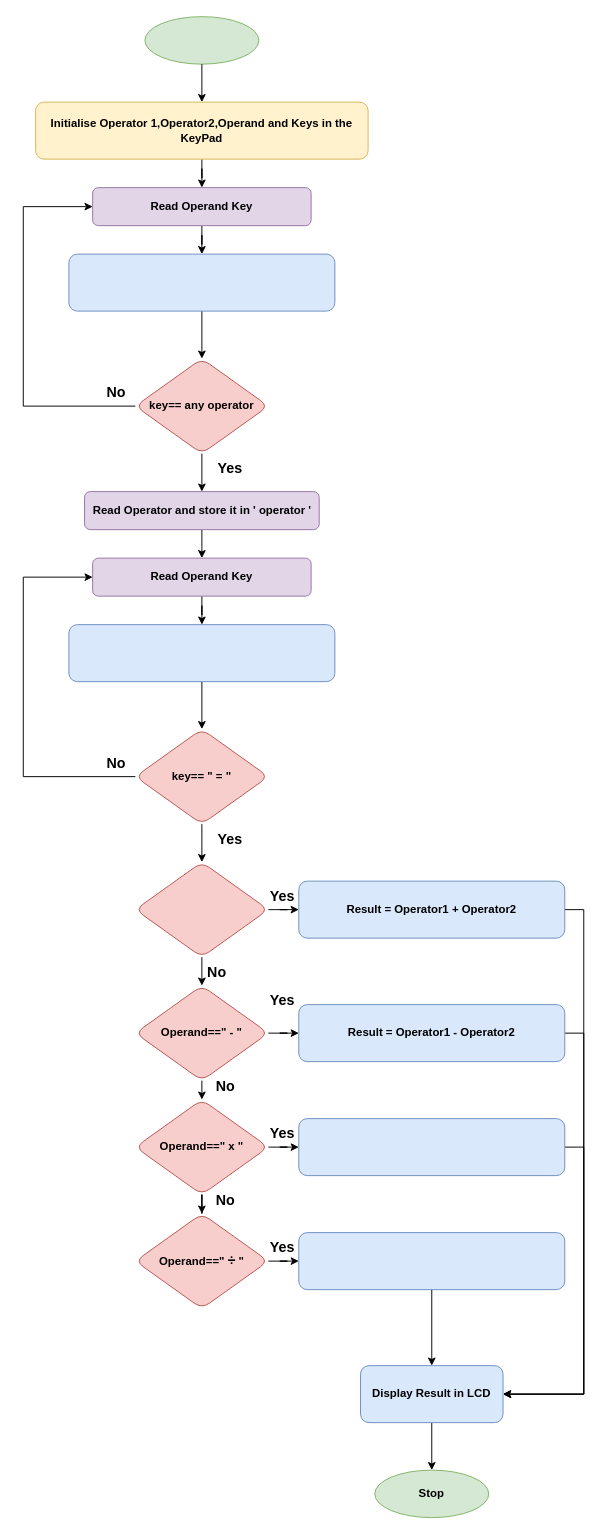
Image size: 608x1534. Some labels were removed from this diagram. Each missing label, with the centre of its shape:
operand1 = (operand1 x 10 ) + key entered: the point at 201,282
operand2 = (operand2 x 10 ) + key entered: the point at 201,653
Operand==" + ": the point at 201,909
Result = Operator1 / Operator2: the point at 431,1261
Result = Operator1 x Operator2: the point at 431,1147
Start: the point at 201,40
